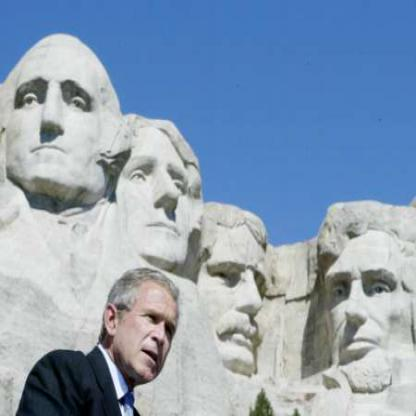face: (3, 37, 115, 197), (322, 204, 410, 392), (187, 209, 282, 377), (111, 123, 206, 276), (118, 276, 184, 385)
